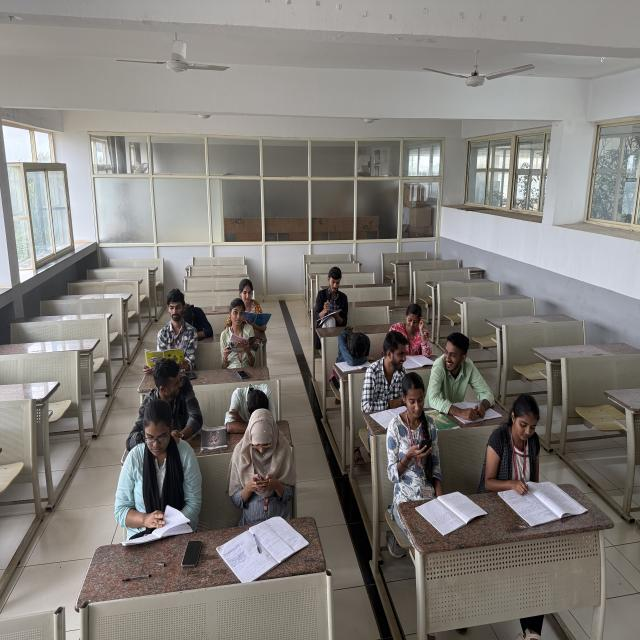Reading: (113, 404, 202, 552), (141, 287, 203, 384), (212, 298, 274, 378)
Sleeping: (222, 382, 283, 432), (333, 322, 378, 384)
Using Phone: (225, 406, 303, 527), (384, 371, 446, 496)
Writing: (481, 394, 566, 518), (389, 298, 435, 365), (314, 265, 352, 334)
